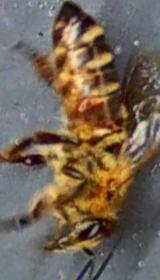varroa_mite: (68, 94, 95, 128)
